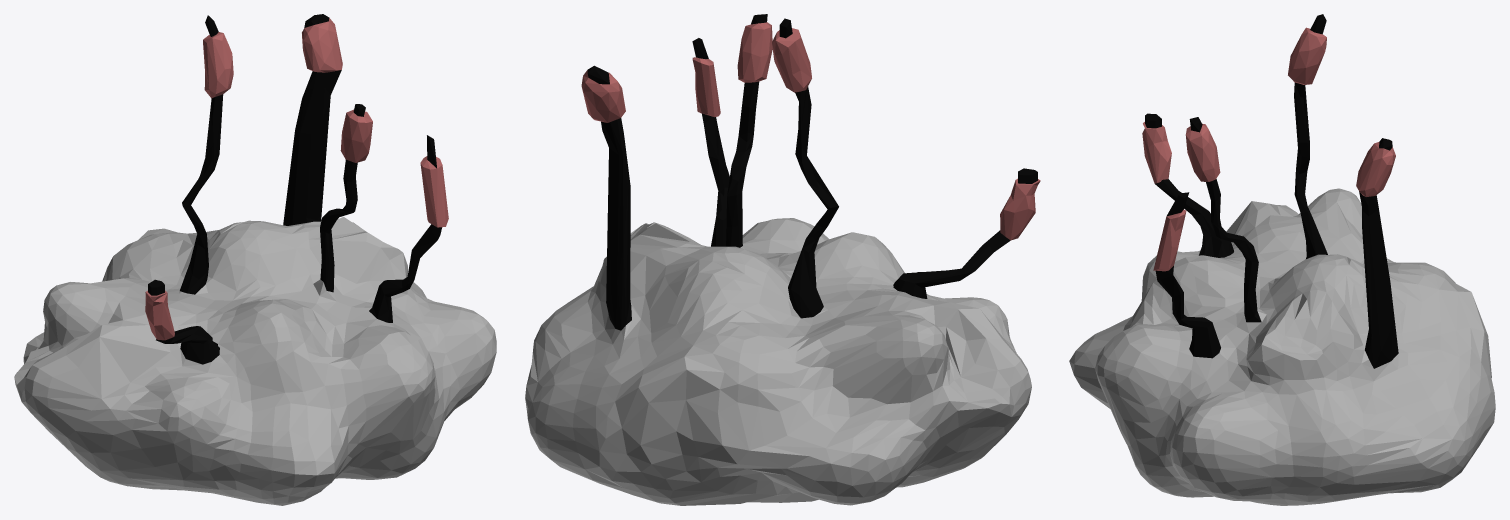
The picture shows the model from 3 angles, left to right: view 1: azimuth 30°, elevation 25°; view 2: azimuth 150°, elevation 25°; view 3: azimuth 270°, elevation 25°; orthographic projection. The views are drawn at different scales.
Visible parts, largest first — view 1: Group57470; view 2: Group57470; view 3: Group57470.
Boxes of the visible parts, x1,y1,x2,y2 form: Group57470: (14,14,496,505); Group57470: (525,14,1040,505); Group57470: (1069,14,1495,505).
Size of the model in its own units: 2.28 by 2.27 by 1.99.
